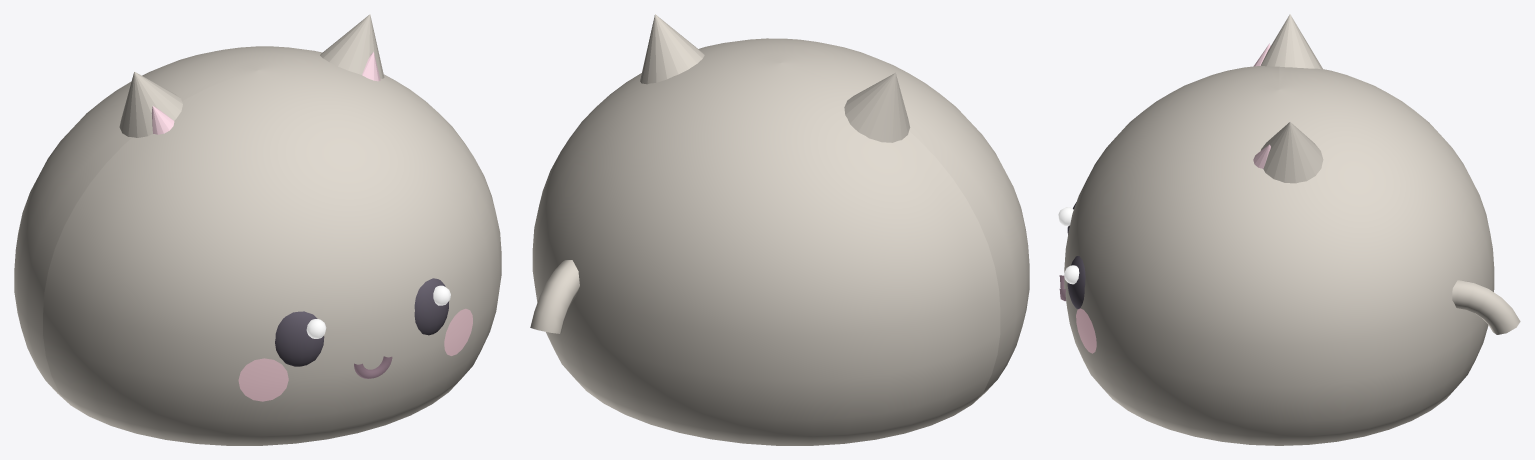
Rendered from squishy_cat.glb.
3 views of the same model, side by side, from view 1: azimuth 30°, elevation 25°; view 2: azimuth 150°, elevation 25°; view 3: azimuth 270°, elevation 25° (orthographic). The views are drawn at different scales.
Parts seen in each view (by area): view 1: Body, Part_0, Part_2, Part_5, Part_7, Part_8, Part_10; view 2: Body, Part_0, Part_2, Part_4; view 3: Body, Part_2, Part_4, Part_0, Part_10, Part_8.
Part boxes in pixels (box(x1,y1,x2,y2)): Body: box(14, 46, 501, 445); Part_0: box(119, 72, 182, 137); Part_2: box(320, 14, 384, 78); Part_5: box(275, 311, 324, 366); Part_7: box(238, 358, 288, 401); Part_8: box(414, 278, 448, 335); Part_10: box(444, 309, 472, 355); Body: box(532, 38, 1029, 445); Part_0: box(844, 73, 910, 142); Part_2: box(640, 14, 704, 84); Part_4: box(530, 260, 579, 333); Body: box(1064, 65, 1494, 445); Part_2: box(1260, 122, 1323, 183); Part_4: box(1452, 280, 1520, 334); Part_0: box(1261, 14, 1322, 69); Part_10: box(1076, 308, 1096, 353); Part_8: box(1067, 256, 1085, 308).
Size of the model in its own units: 2.16 by 1.65 by 2.15.
